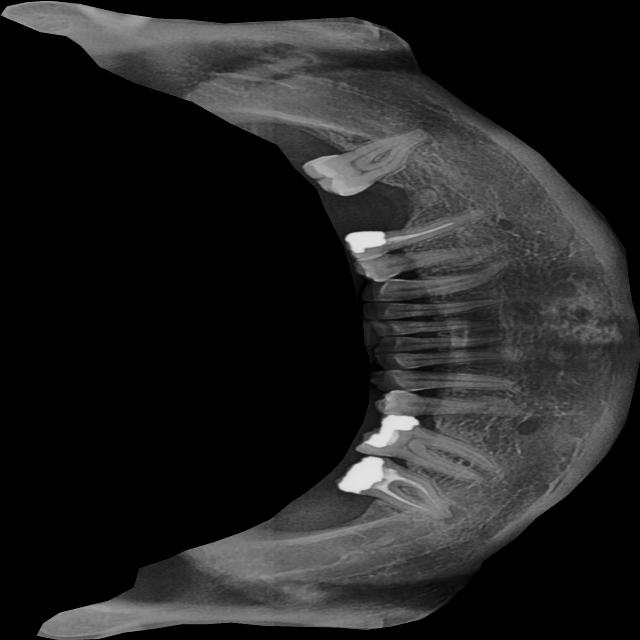mandibula: (0, 0, 640, 640)
